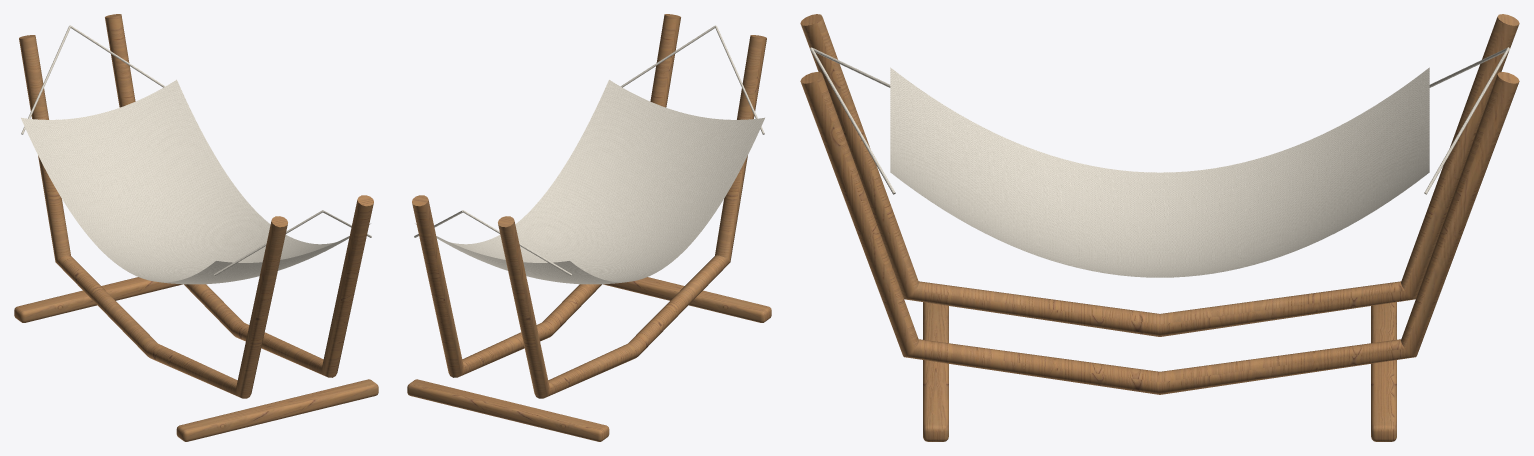
Rendered from hamaca_soporte_madera_base.glb.
3 views of the same model, side by side, from view 1: azimuth 30°, elevation 25°; view 2: azimuth 150°, elevation 25°; view 3: azimuth 270°, elevation 25° (orthographic). The views are drawn at different scales.
Visible parts, largest first — view 1: hamaca_soporte_madera_base; view 2: hamaca_soporte_madera_base; view 3: hamaca_soporte_madera_base.
Boxes of the visible parts, bbox=[...] form: hamaca_soporte_madera_base: bbox=[14, 14, 378, 441]; hamaca_soporte_madera_base: bbox=[407, 14, 771, 441]; hamaca_soporte_madera_base: bbox=[800, 14, 1519, 441].
Bounding box in the file's own units: 1.2 × 1.41 × 2.77.
2 materials, 2 textured.
